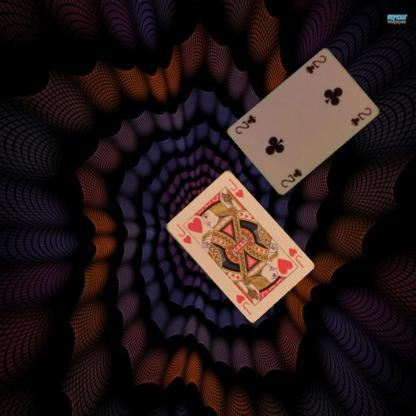2c: (302, 52, 327, 75), (278, 166, 303, 188)
Jh: (285, 245, 305, 270), (174, 221, 192, 246)
